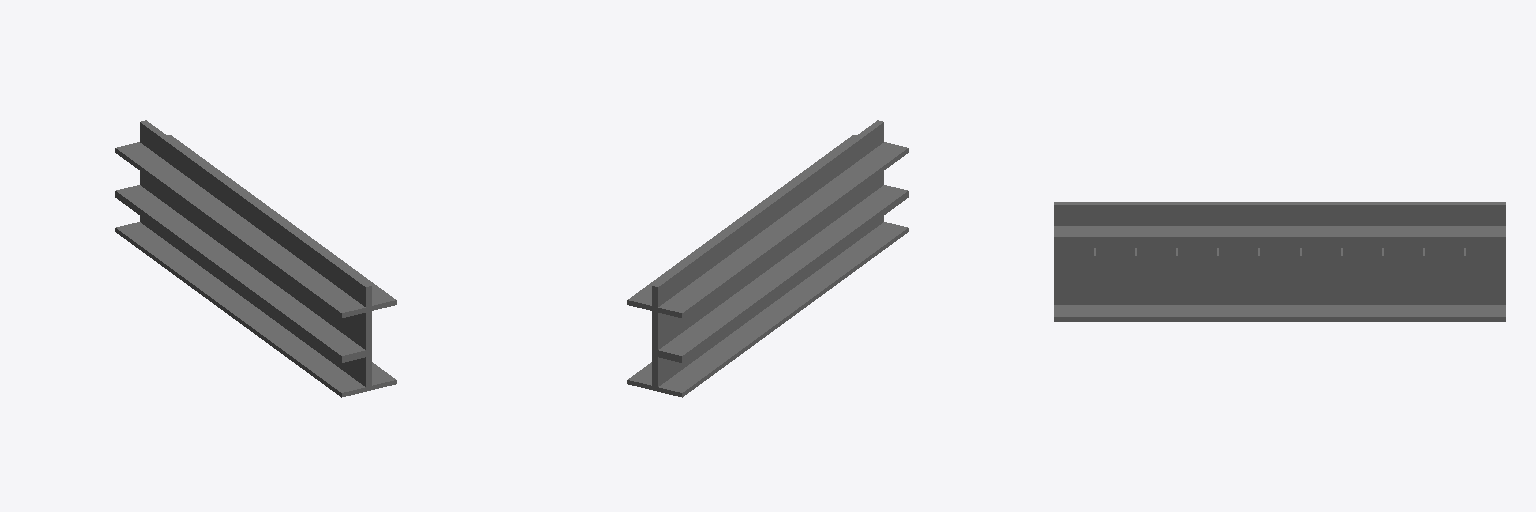
The model's file is hlaf-shelf.obj.
The picture shows the model from 3 angles: view 1: azimuth 30°, elevation 25°; view 2: azimuth 150°, elevation 25°; view 3: azimuth 270°, elevation 25°; orthographic projection.
Parts seen in each view (by area): view 1: pCube40; view 2: pCube40; view 3: pCube40.
Part boxes in pixels (bbox=[...]): pCube40: bbox=[115, 120, 396, 397]; pCube40: bbox=[627, 120, 908, 397]; pCube40: bbox=[1054, 202, 1505, 321].
Bounding box in the file's own units: 80.49 × 146 × 574.